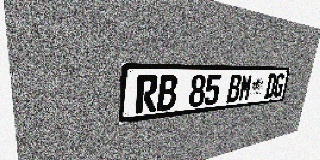5: (204, 74, 221, 106)
8: (188, 74, 207, 108)
B: (157, 75, 178, 111), (226, 74, 242, 103)
D: (264, 74, 277, 99)
G: (273, 74, 285, 98)
M: (238, 74, 253, 102)
R: (135, 75, 159, 114)
